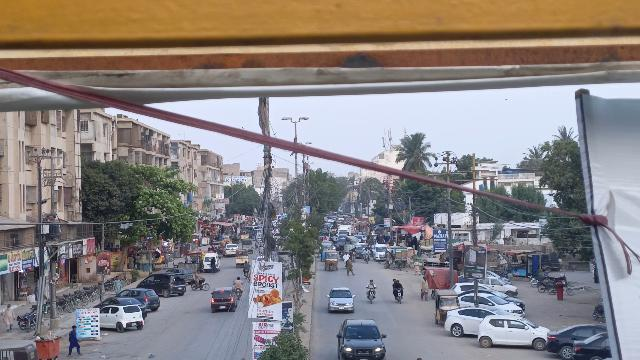Bike: (188, 278, 210, 291), (391, 287, 406, 305), (365, 287, 379, 304), (233, 286, 243, 300)
Car: (476, 315, 552, 350), (546, 322, 614, 360), (334, 318, 387, 360), (444, 307, 511, 338), (137, 273, 189, 298), (99, 304, 144, 332), (118, 288, 162, 311), (325, 285, 356, 314), (208, 286, 239, 312)
Person: (65, 324, 83, 357), (419, 275, 430, 302), (344, 256, 357, 275), (112, 275, 123, 295), (365, 278, 377, 291), (392, 277, 403, 291), (194, 269, 202, 287), (233, 276, 244, 288)
Rickshaw: (434, 288, 459, 326), (323, 250, 339, 272)
